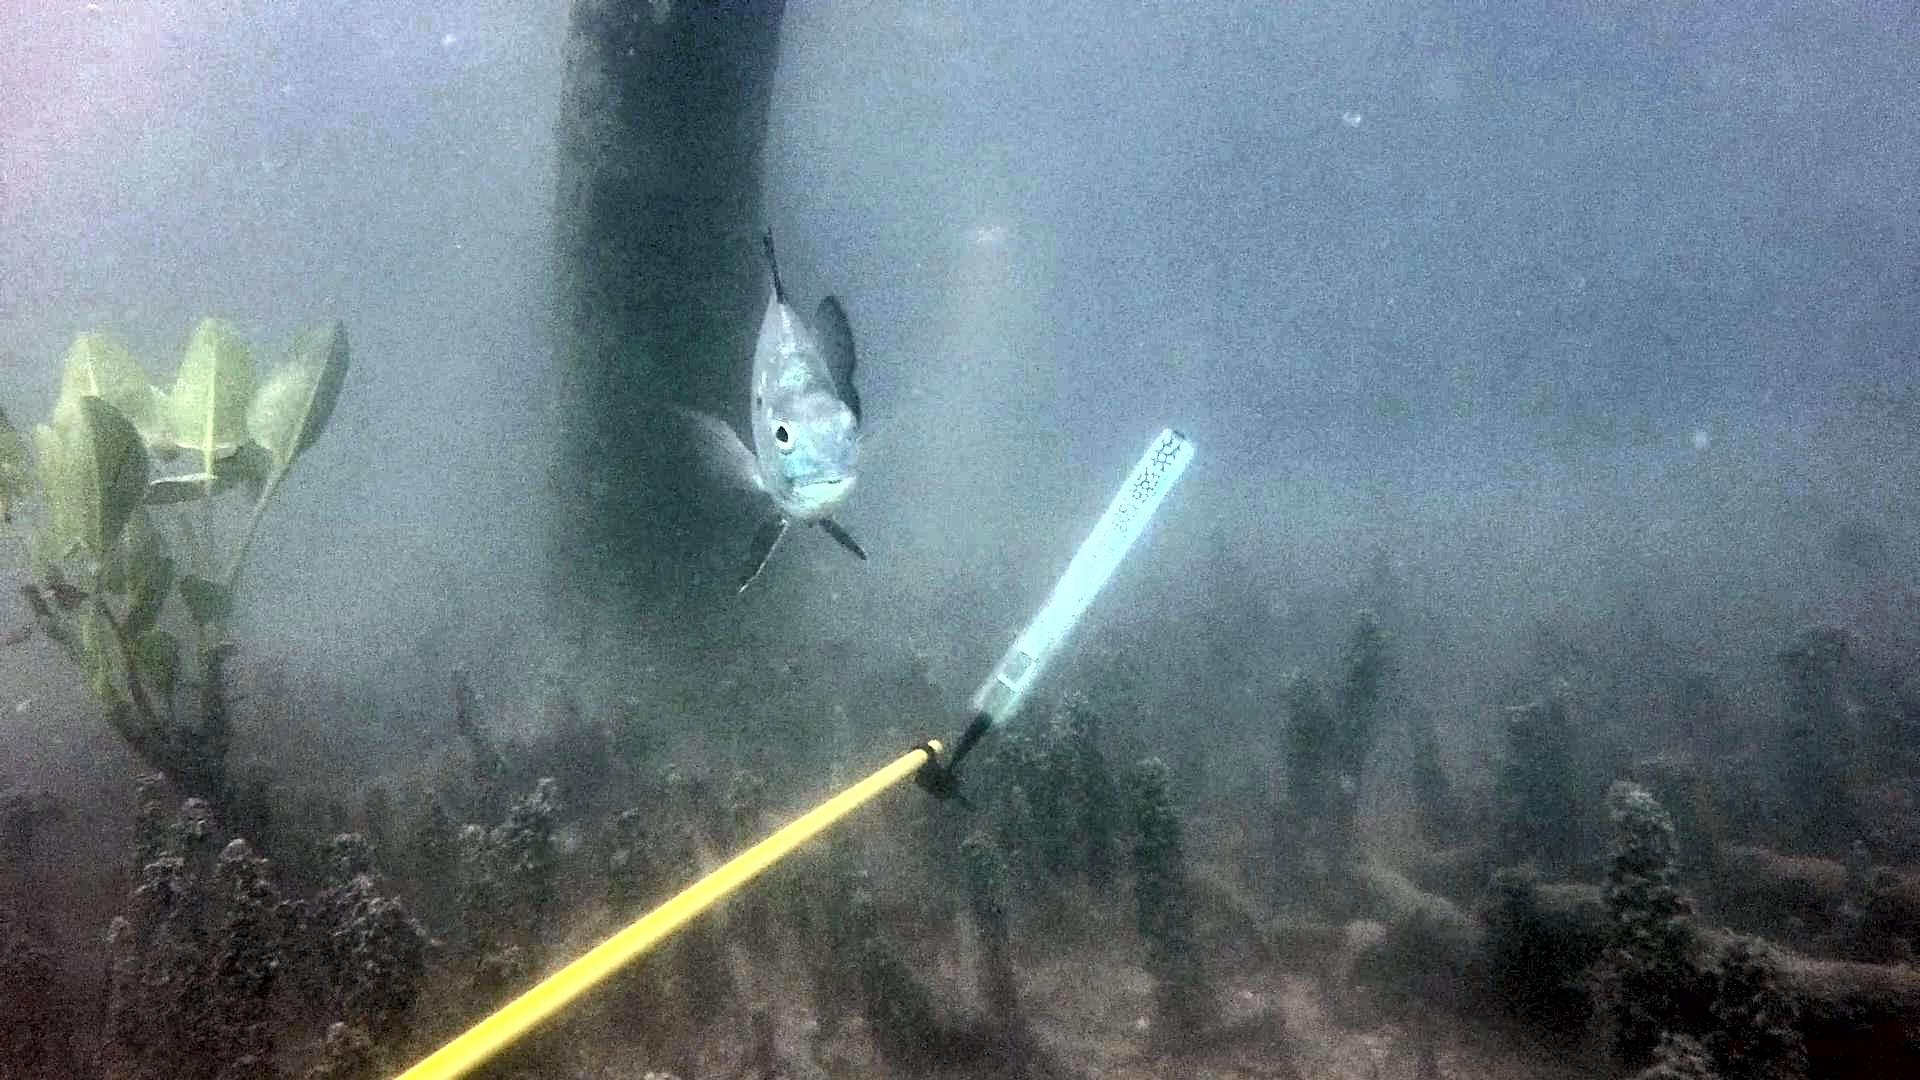acanthopagrus palmaris: (653, 213, 937, 608)
